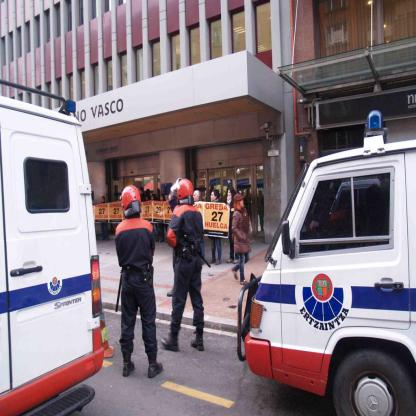Ambulance: (238, 109, 415, 415), (0, 79, 105, 415)
